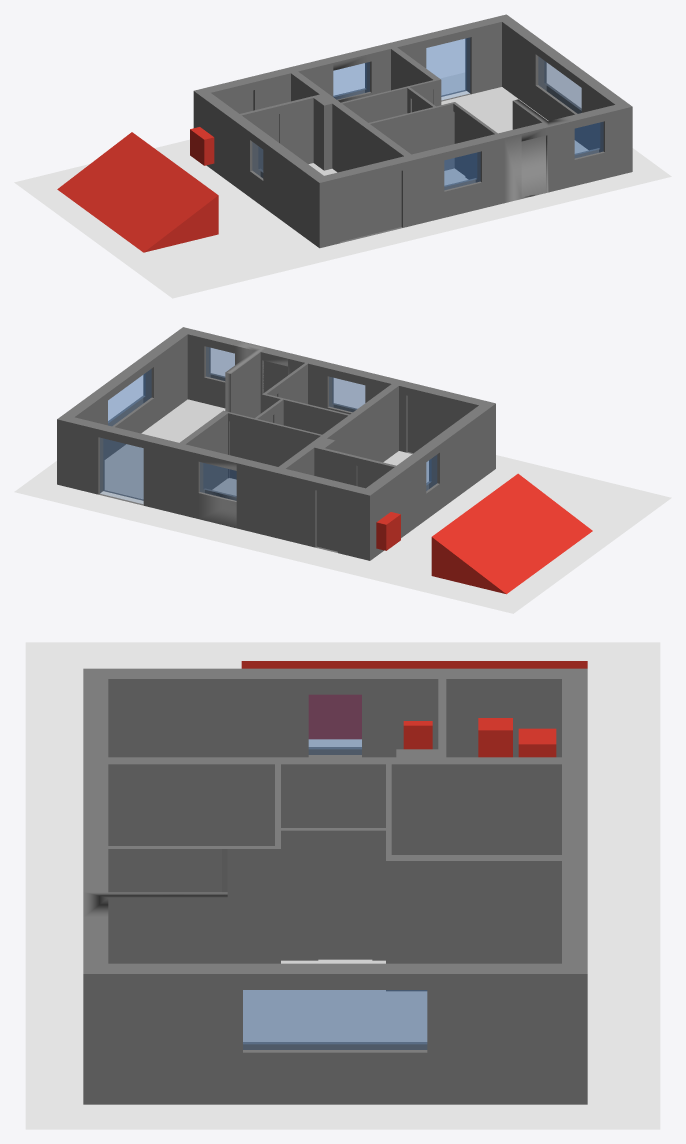
3 renders of one model, top to bottom at view 1: azimuth 30°, elevation 25°; view 2: azimuth 150°, elevation 25°; view 3: azimuth 270°, elevation 25°, orthographic. The views are drawn at different scales.
Parts seen in each view (by area): view 1: home, grass, pv, floor, heat_pump_outside; view 2: home, grass, pv, floor, heat_pump_outside; view 3: home, grass, floor, pv, battery, heat_pump_inside, wallbox.
Boxes of the visible parts, box(x1,y1,x2,y2) form: home: box(193, 14, 632, 248); grass: box(14, 72, 671, 298); pv: box(57, 132, 218, 252); floor: box(308, 87, 588, 185); heat_pump_outside: box(190, 127, 214, 165); home: box(57, 327, 495, 560); grass: box(14, 455, 671, 613); pv: box(431, 473, 592, 594); floor: box(104, 399, 428, 498); heat_pump_outside: box(376, 512, 400, 550); home: box(83, 668, 587, 1104); grass: box(25, 642, 660, 1129); floor: box(243, 959, 427, 1041); pv: box(241, 661, 587, 739); battery: box(478, 718, 512, 757); heat_pump_inside: box(518, 728, 556, 757); wallbox: box(403, 721, 432, 749).
Size of the model in its own units: 20 by 2.52 by 11.
